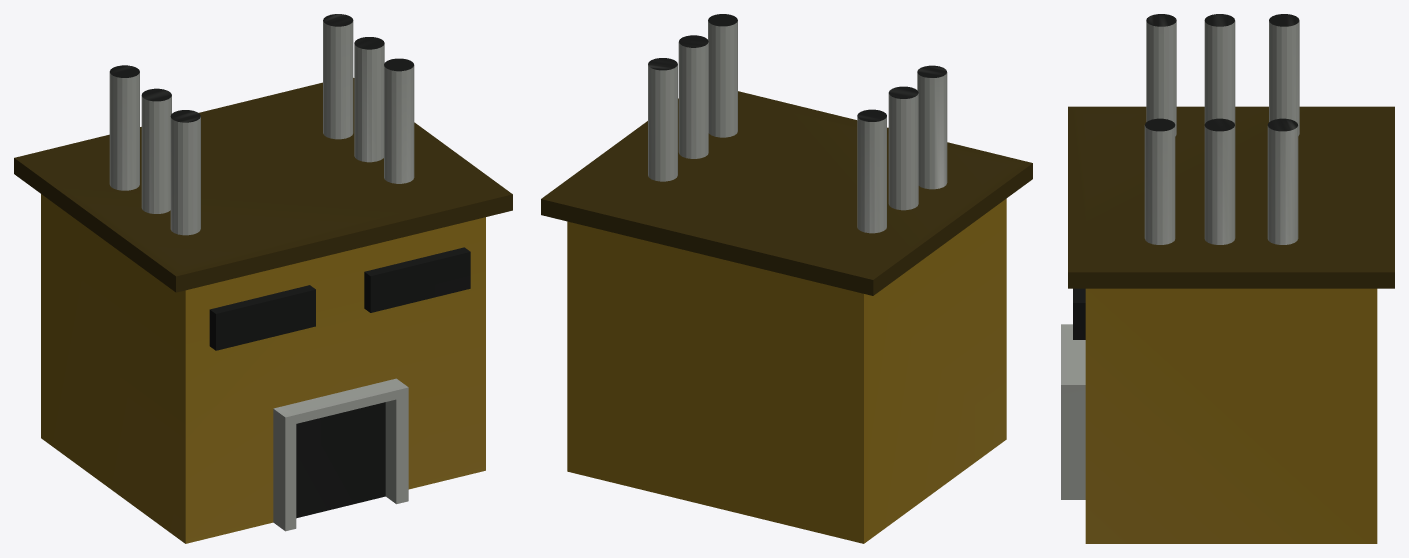
The model's file is industria.fbx.
3 views of the same model, side by side, from view 1: azimuth 30°, elevation 25°; view 2: azimuth 150°, elevation 25°; view 3: azimuth 270°, elevation 25° (orthographic). The views are drawn at different scales.
Parts seen in each view (by area): view 1: industria; view 2: industria; view 3: industria.
Part boxes in pixels (x1,y1,x2,y2): industria: (14, 14, 512, 543); industria: (541, 14, 1032, 543); industria: (1061, 14, 1394, 543).
Bounding box in the file's own units: 527 × 585 × 449.
